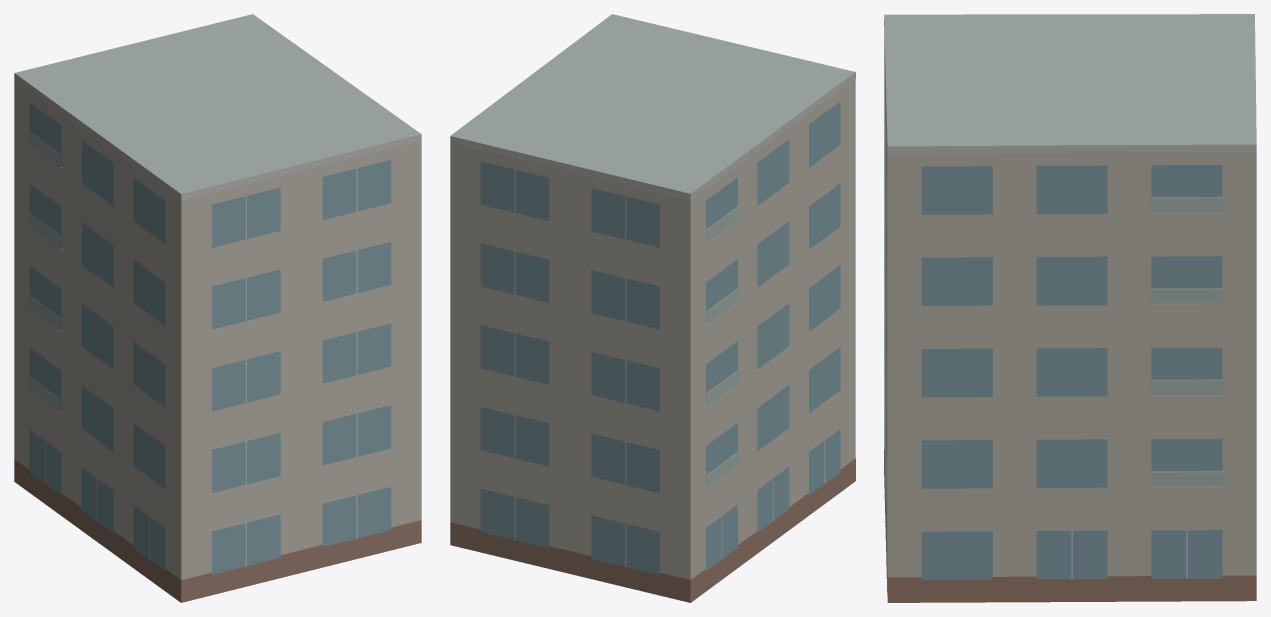
File: survey-upis-32520130.glb
3 views of the same model, side by side, from view 1: azimuth 30°, elevation 25°; view 2: azimuth 150°, elevation 25°; view 3: azimuth 270°, elevation 25° (orthographic). The views are drawn at different scales.
Parts seen in each view (by area): view 1: survey-upis-32520130.tmp; view 2: survey-upis-32520130.tmp; view 3: survey-upis-32520130.tmp.
Part boxes in pixels (box(x1,y1,x2,y2)): survey-upis-32520130.tmp: box(14, 14, 421, 602); survey-upis-32520130.tmp: box(450, 14, 855, 602); survey-upis-32520130.tmp: box(884, 14, 1256, 602).
Bounding box in the file's own units: 8.99 × 14.4 × 10.66.
